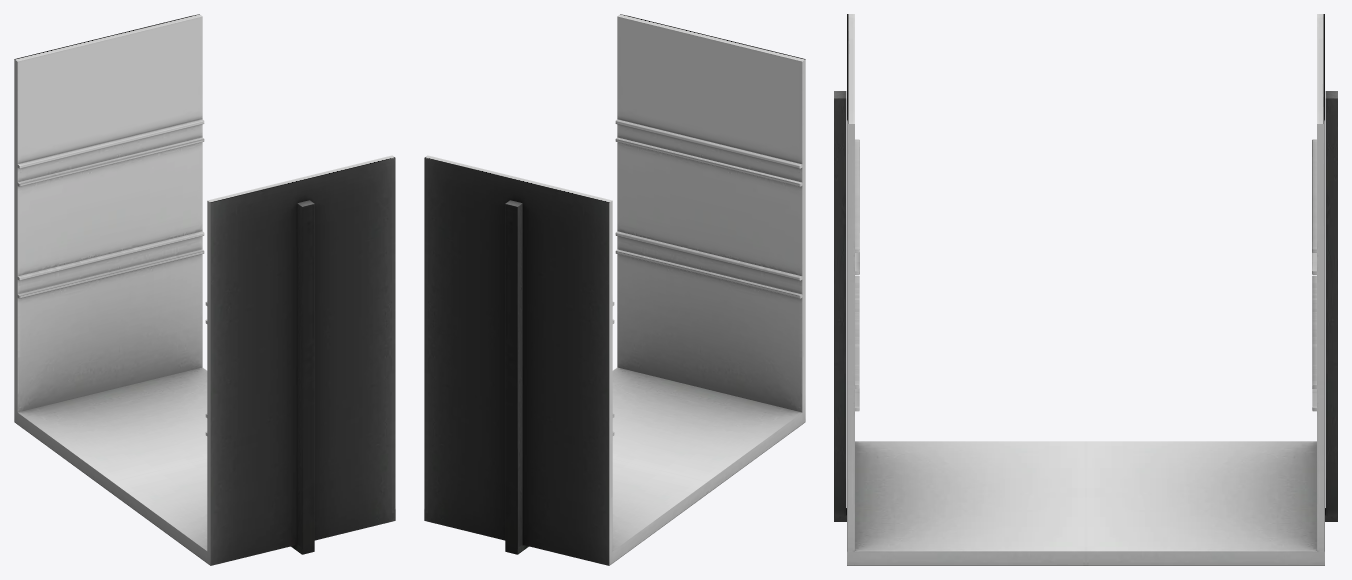
The picture shows the model from 3 angles, left to right: view 1: azimuth 30°, elevation 25°; view 2: azimuth 150°, elevation 25°; view 3: azimuth 270°, elevation 25°; orthographic projection. The views are drawn at different scales.
Parts seen in each view (by area): view 1: body0_model0_lod0_mesh0; view 2: body0_model0_lod0_mesh0; view 3: body0_model0_lod0_mesh0.
Boxes of the visible parts, bbox=[...] form: body0_model0_lod0_mesh0: bbox=[14, 14, 395, 565]; body0_model0_lod0_mesh0: bbox=[424, 14, 805, 565]; body0_model0_lod0_mesh0: bbox=[834, 14, 1337, 565].
Bounding box in the file's own units: 64.01 × 122 × 124.
Materials: 1 (1 with a texture image).
